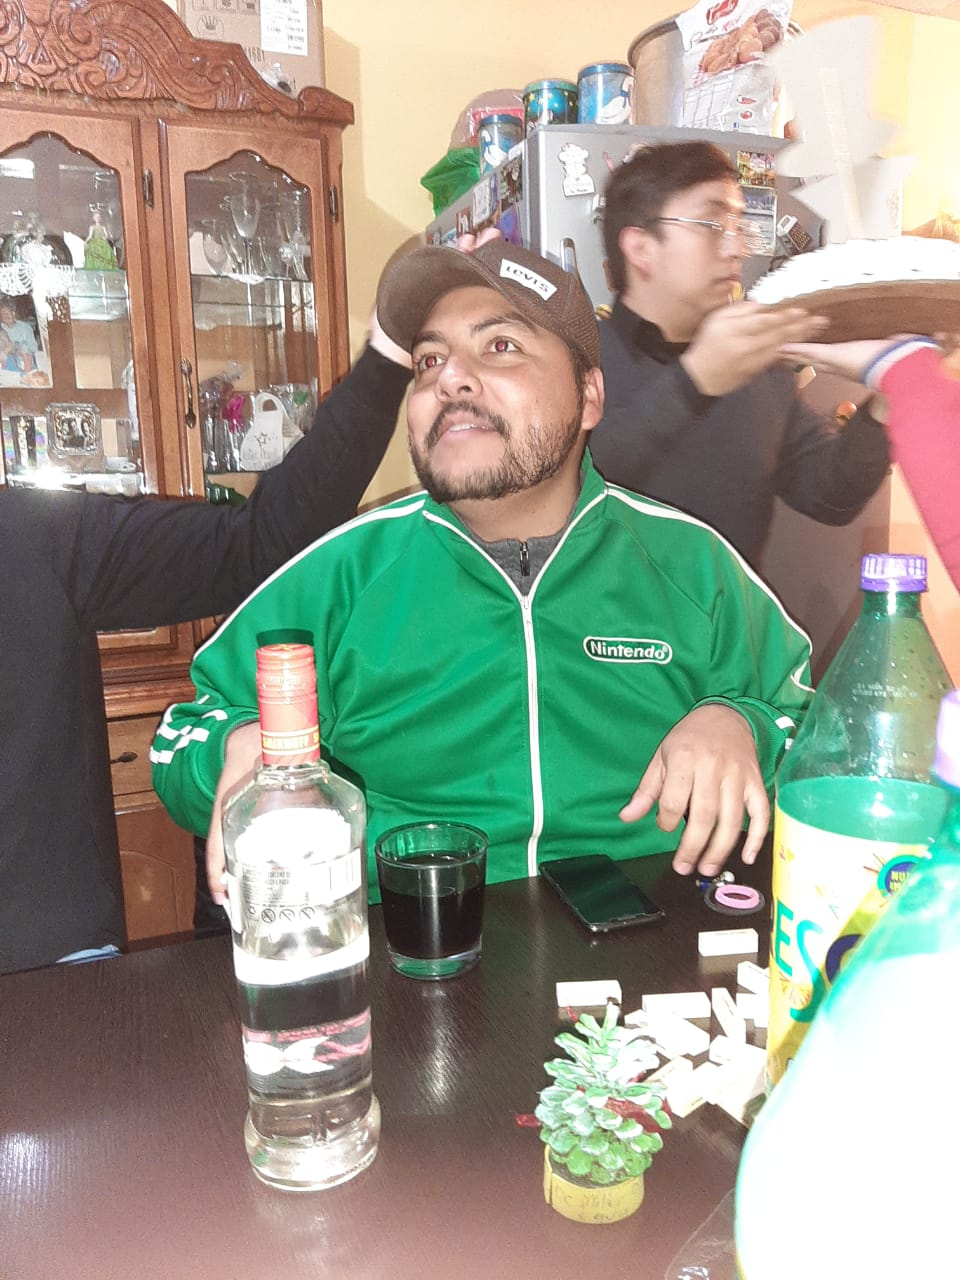Yoshi: (284, 219, 610, 677)
